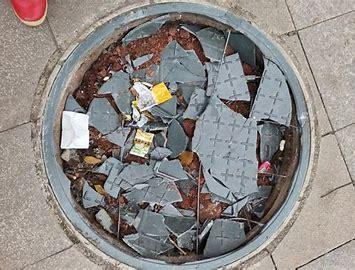wellcover: (39, 0, 318, 254)
